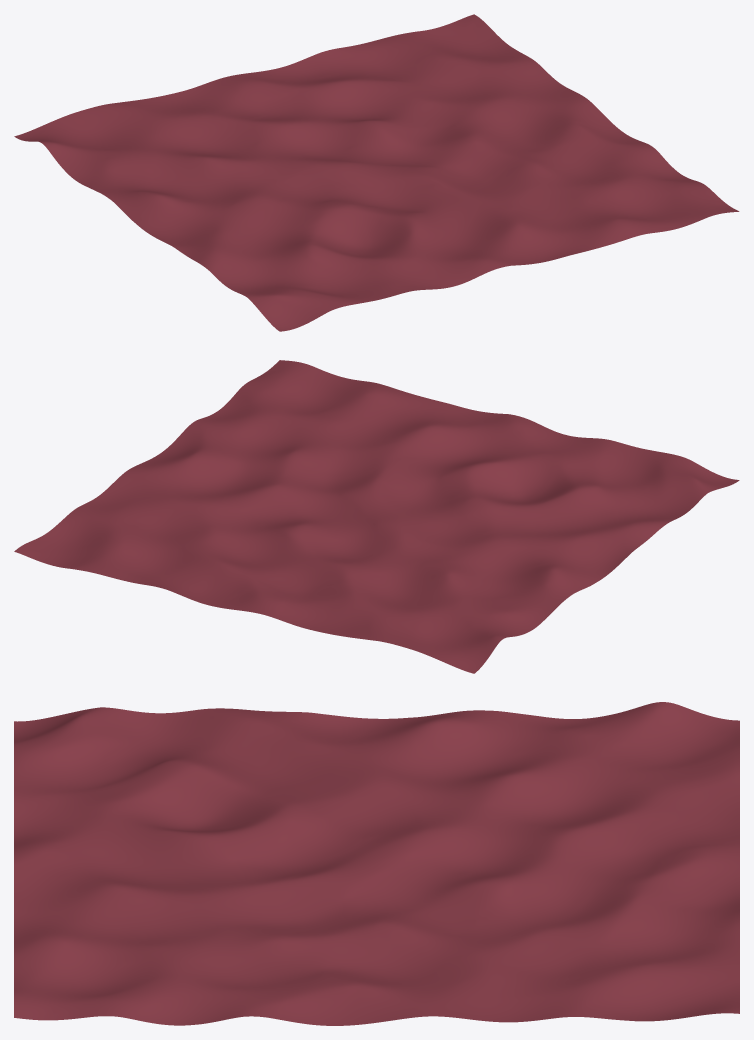
The model's file is Candy Ocean.fbx.
The picture shows the model from 3 angles, top to bottom: view 1: azimuth 30°, elevation 25°; view 2: azimuth 150°, elevation 25°; view 3: azimuth 270°, elevation 25°; orthographic projection. The views are drawn at different scales.
Parts seen in each view (by area): view 1: pPlane1; view 2: pPlane1; view 3: pPlane1.
Part boxes in pixels (x1,y1,x2,y2): pPlane1: (14,14,739,331); pPlane1: (14,360,739,673); pPlane1: (14,702,739,1025).
Size of the model in its own units: 24 by 0.8625 by 24.
